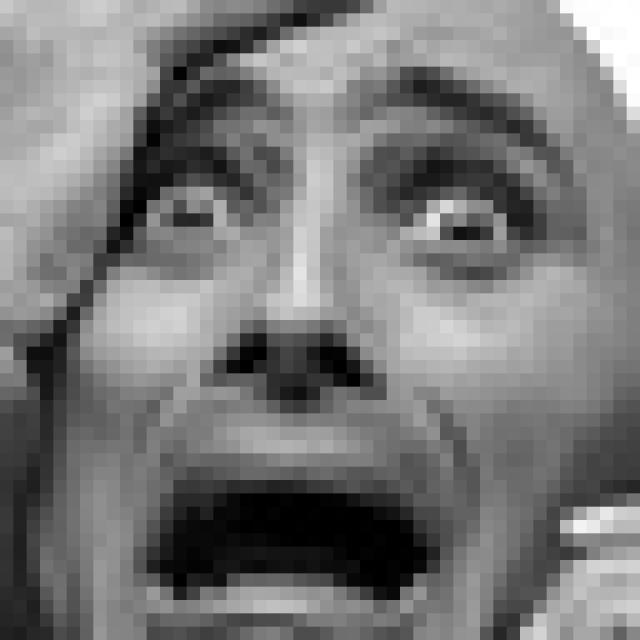fear: (116, 63, 594, 634)
